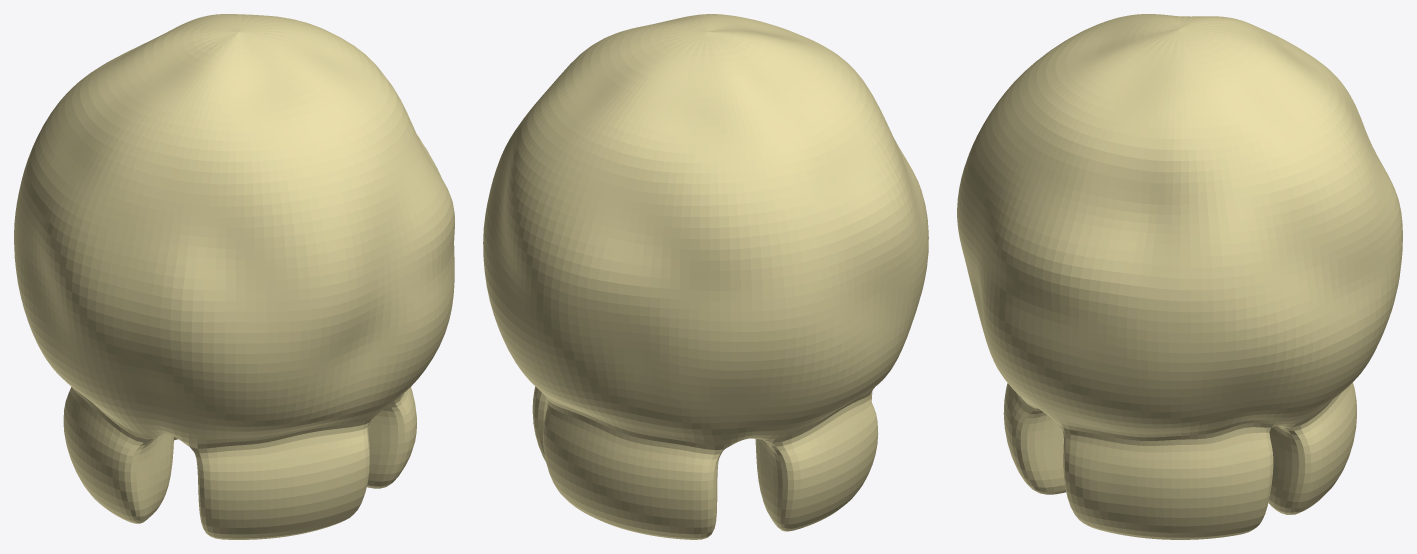
File: popcorn.fbx
The picture shows the model from 3 angles, left to right: view 1: azimuth 30°, elevation 25°; view 2: azimuth 150°, elevation 25°; view 3: azimuth 270°, elevation 25°; orthographic projection.
Visible parts, largest first — view 1: 球; view 2: 球; view 3: 球.
Part boxes in pixels (left/top/right/bottom): 球: left=14, top=14, right=454, bottom=539; 球: left=483, top=14, right=928, bottom=539; 球: left=957, top=14, right=1402, bottom=539.
Size of the model in its own units: 193 by 215 by 193.
